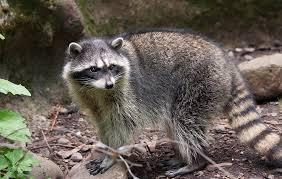raccoon: (49, 18, 282, 179)
